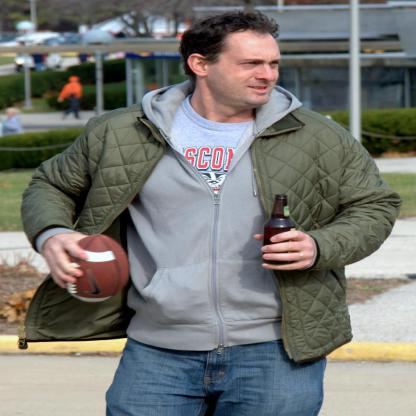Ball: (64, 233, 130, 304)
